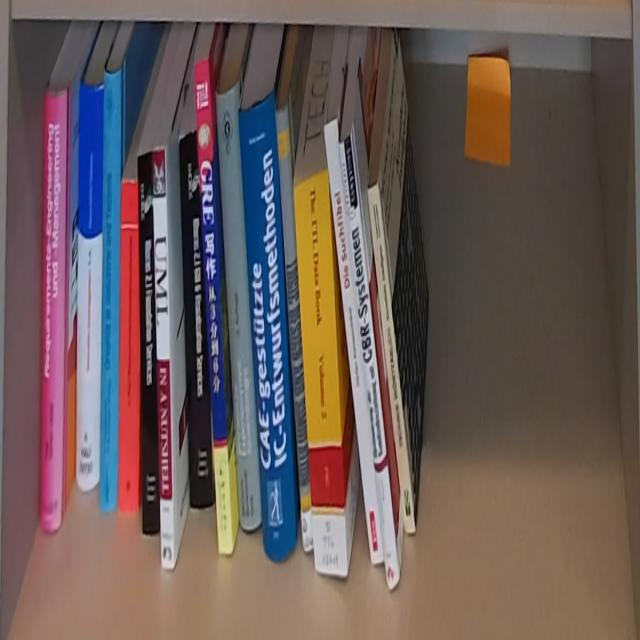Book Spine: (340, 133, 401, 589), (240, 90, 297, 564), (324, 119, 384, 568), (293, 169, 349, 578), (216, 82, 262, 532), (193, 58, 233, 552), (367, 181, 416, 538), (276, 107, 314, 553), (178, 127, 215, 508), (39, 85, 68, 540), (76, 81, 104, 493), (100, 66, 123, 515), (151, 147, 175, 569), (138, 155, 161, 539), (119, 180, 140, 513)
